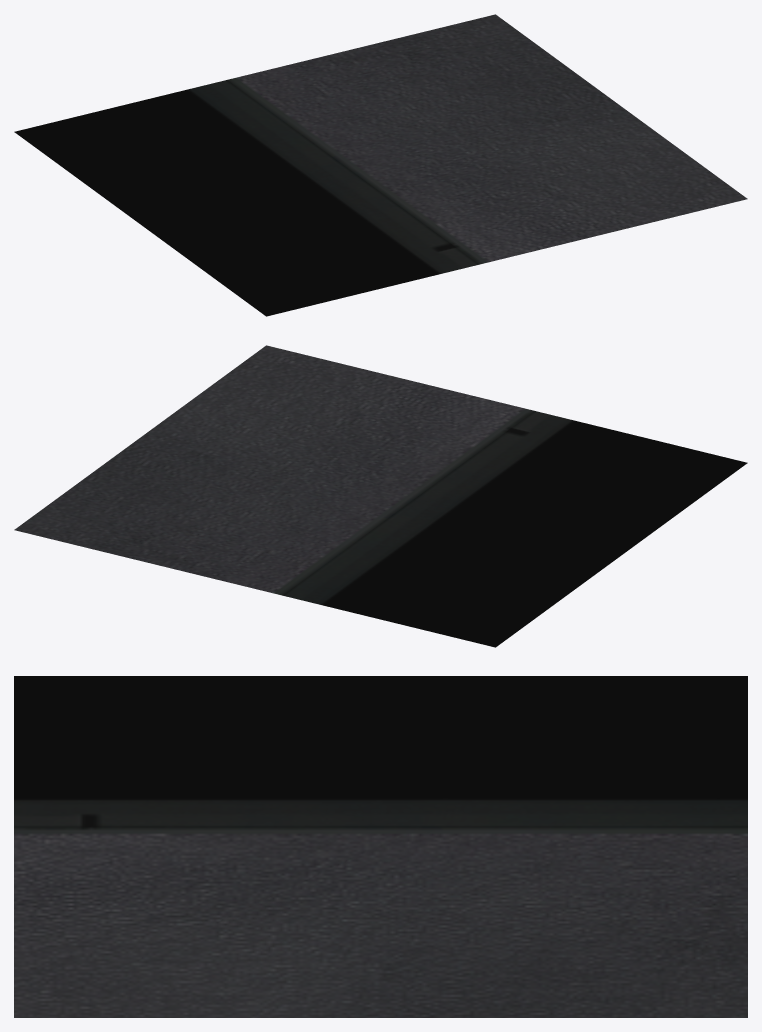
Rendered from cdu2screen.glb.
The picture shows the model from 3 angles, top to bottom: view 1: azimuth 30°, elevation 25°; view 2: azimuth 150°, elevation 25°; view 3: azimuth 270°, elevation 25°; orthographic projection. The views are drawn at different scales.
Visible parts, largest first — view 1: cdu2.screen; view 2: cdu2.screen; view 3: cdu2.screen.
Part boxes in pixels (x1=…): cdu2.screen: x1=14, y1=14, x2=747, y2=316; cdu2.screen: x1=14, y1=345, x2=747, y2=647; cdu2.screen: x1=14, y1=676, x2=747, y2=1017.
Size of the model in its own units: 0.1196 by 0 by 0.1085.
1 material, 1 textured.
